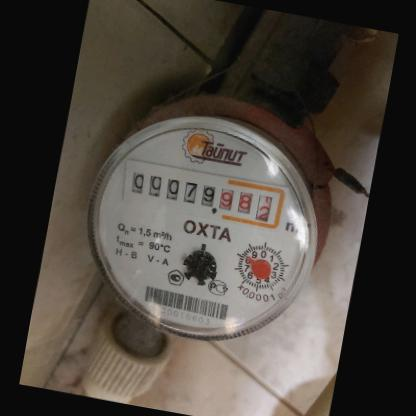digital_screen: (119, 155, 220, 214)
